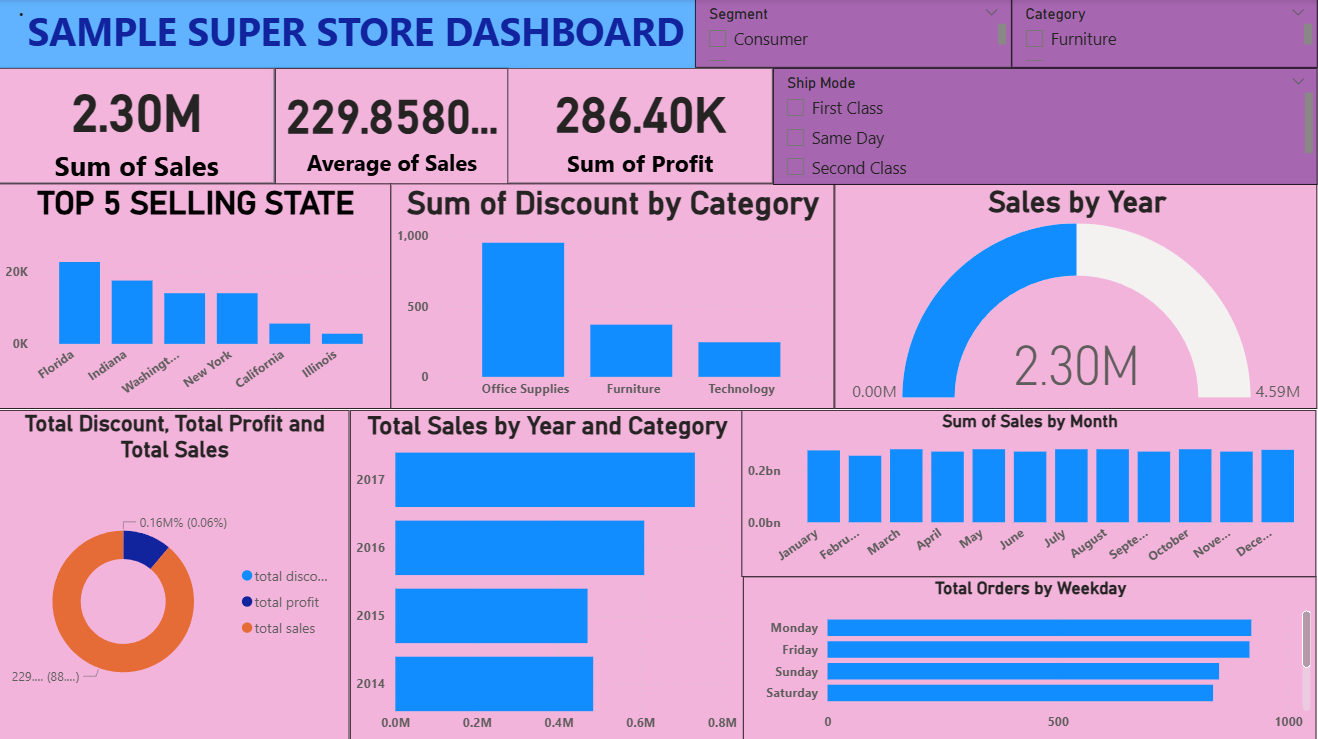

Layout of this report page (visuals, bound fields, positions):
{"tool":"powerbi","page":{"name":"Page 1","canvas":[1280,720],"ordinal":0},"visuals":[{"type":"textbox","box":[0,0,675.2,66.4],"z":0},{"type":"card","fields":{"Values":["Sum(Sample - Superstore.Sales)"]},"box":[0,66.4,267.2,111.7],"z":1000},{"type":"card","fields":{"Values":["Avg(Sample - Superstore.Sales)"]},"box":[267.2,66.4,226.7,113.3],"z":2000},{"type":"card","fields":{"Values":["Sum(Sample - Superstore.Profit)"]},"box":[493.9,66.4,257.5,111.7],"z":3000},{"type":"slicer","fields":{"Values":["Sample - Superstore.Category"]},"box":[982.9,0,297.9,66.4],"z":4000},{"type":"slicer","fields":{"Values":["Sample - Superstore.Segment"]},"box":[675.2,0,307.7,66.4],"z":5000},{"type":"columnChart","title":"TOP 5 SELLING STATE ","fields":{"Category":["Sample - Superstore.State"],"Y":["Sum(Sample - Superstore.Sales)"]},"box":[0,179.7,380.5,218.6],"z":6000},{"type":"columnChart","fields":{"Category":["Sample - Superstore.Category"],"Y":["Sum(Sample - Superstore.Discount)"]},"box":[380.5,179.7,430.7,218.6],"z":7000},{"type":"gauge","fields":{"Y":["Sample - Superstore.Sales by Year"]},"box":[811.2,179.7,469.6,218.6],"z":8000},{"type":"donutChart","title":"Total Discount, Total Profit and Total Sales","fields":{"Y":["Sample - Superstore.total discount","Sample - Superstore.total profit","Sample - Superstore.total sales"]},"box":[0,398.3,340,322.2],"z":9000},{"type":"slicer","fields":{"Values":["Sample - Superstore.Ship Mode"]},"box":[751.3,66.4,529.5,113.3],"z":10000},{"type":"barChart","title":"Total Sales by Year and Category","fields":{"Category":["Sample - Superstore.Order Date.Variation.Date Hierarchy.Year","Sample - Superstore.Category"],"Y":["Sample - Superstore.total sales"]},"box":[340,398.3,382.1,322.2],"z":11000},{"type":"columnChart","title":"Sum of Sales by Month","fields":{"Category":["DateTable.Date.Variation.Date Hierarchy.Month"],"Y":["Sum(DateTable.Sales by Month)"]},"box":[720.6,398.3,558.6,161.9],"z":12000},{"type":"barChart","title":"Total Orders by Weekday","fields":{"Y":["DateTable.Total Orders"],"Category":["Sample - Superstore.Order Weekday"]},"box":[722.2,560.3,557,160.3],"z":13000}]}

Visuals, with their boxes in screenshot pixels (x1, y1, x2, y2), scaled from the page's 1280x720 canvas onto the 1318x739 screenshot:
textbox: BBox(0, 0, 695, 68)
card - Sum(Sample - Superstore.Sales): BBox(0, 68, 275, 183)
card - Avg(Sample - Superstore.Sales): BBox(275, 68, 509, 184)
card - Sum(Sample - Superstore.Profit): BBox(509, 68, 774, 183)
slicer - Sample - Superstore.Category: BBox(1012, 0, 1317, 68)
slicer - Sample - Superstore.Segment: BBox(695, 0, 1012, 68)
"TOP 5 SELLING STATE " columnChart: BBox(0, 184, 392, 409)
columnChart - Sample - Superstore.Category x Sum(Sample - Superstore.Discount): BBox(392, 184, 835, 409)
gauge - Sample - Superstore.Sales by Year: BBox(835, 184, 1317, 409)
"Total Discount, Total Profit and Total Sales" donutChart: BBox(0, 409, 350, 738)
slicer - Sample - Superstore.Ship Mode: BBox(774, 68, 1317, 184)
"Total Sales by Year and Category" barChart: BBox(350, 409, 744, 738)
"Sum of Sales by Month" columnChart: BBox(742, 409, 1317, 575)
"Total Orders by Weekday" barChart: BBox(744, 575, 1317, 738)
